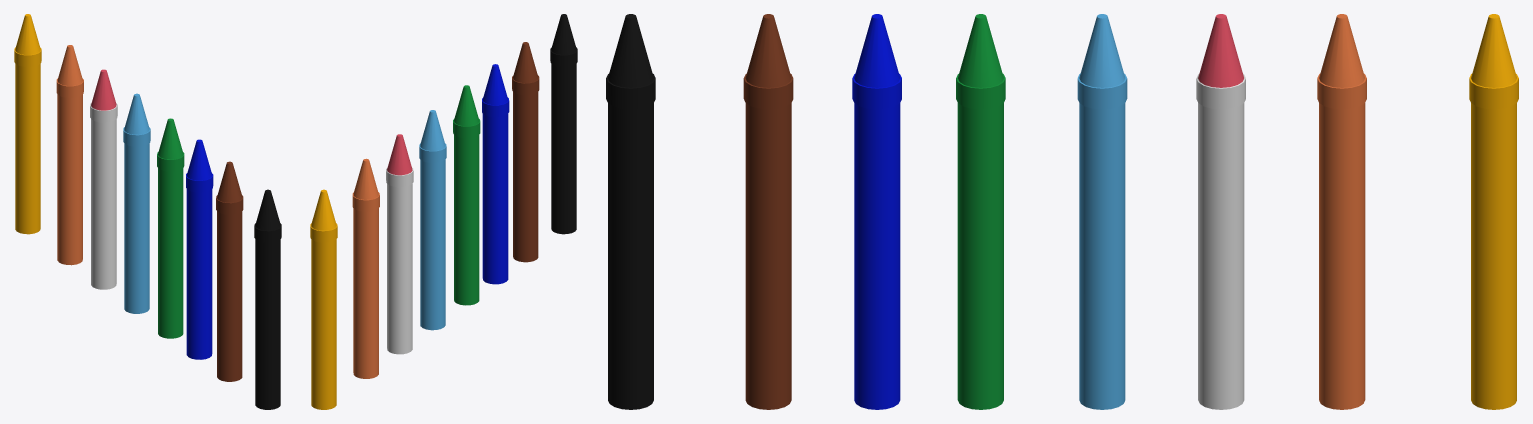
The model's file is crayons.fbx.
The picture shows the model from 3 angles, left to right: view 1: azimuth 30°, elevation 25°; view 2: azimuth 150°, elevation 25°; view 3: azimuth 270°, elevation 25°; orthographic projection. The views are drawn at different scales.
Visible parts, largest first — view 1: Cylinder.005, Cylinder.003, Cylinder.002, Cylinder.006, Cylinder.007, Cylinder.008, Cylinder.004, Cylinder, Cylinder.001; view 2: Cylinder.005, Cylinder.002, Cylinder.003, Cylinder.006, Cylinder.007, Cylinder.008, Cylinder.004, Cylinder, Cylinder.001; view 3: Cylinder.002, Cylinder.006, Cylinder.005, Cylinder.003, Cylinder.004, Cylinder.007, Cylinder.008, Cylinder, Cylinder.001.
Boxes of the visible parts, left/top/right/bottom form: Cylinder.005: left=186, top=139, right=213, bottom=359; Cylinder.003: left=157, top=118, right=184, bottom=338; Cylinder.002: left=123, top=93, right=150, bottom=313; Cylinder.006: left=216, top=161, right=243, bottom=381; Cylinder.007: left=254, top=189, right=281, bottom=409; Cylinder.008: left=14, top=14, right=41, bottom=234; Cylinder.004: left=56, top=45, right=83, bottom=265; Cylinder: left=90, top=103, right=117, bottom=289; Cylinder.001: left=91, top=69, right=116, bottom=110; Cylinder.005: left=482, top=64, right=509, bottom=284; Cylinder.002: left=419, top=110, right=446, bottom=330; Cylinder.003: left=453, top=85, right=480, bottom=305; Cylinder.006: left=512, top=42, right=539, bottom=262; Cylinder.007: left=550, top=14, right=577, bottom=234; Cylinder.008: left=310, top=189, right=337, bottom=409; Cylinder.004: left=352, top=158, right=379, bottom=378; Cylinder: left=386, top=167, right=413, bottom=354; Cylinder.001: left=387, top=134, right=412, bottom=175; Cylinder.002: left=1077, top=14, right=1127, bottom=409; Cylinder.006: left=743, top=14, right=793, bottom=409; Cylinder.005: left=852, top=14, right=901, bottom=409; Cylinder.003: left=956, top=14, right=1005, bottom=409; Cylinder.004: left=1317, top=14, right=1366, bottom=409; Cylinder.007: left=606, top=14, right=655, bottom=409; Cylinder.008: left=1469, top=14, right=1518, bottom=409; Cylinder: left=1196, top=73, right=1245, bottom=409; Cylinder.001: left=1198, top=14, right=1243, bottom=87.
Size of the model in its own units: 0.0814 by 1.5 by 0.6944.
